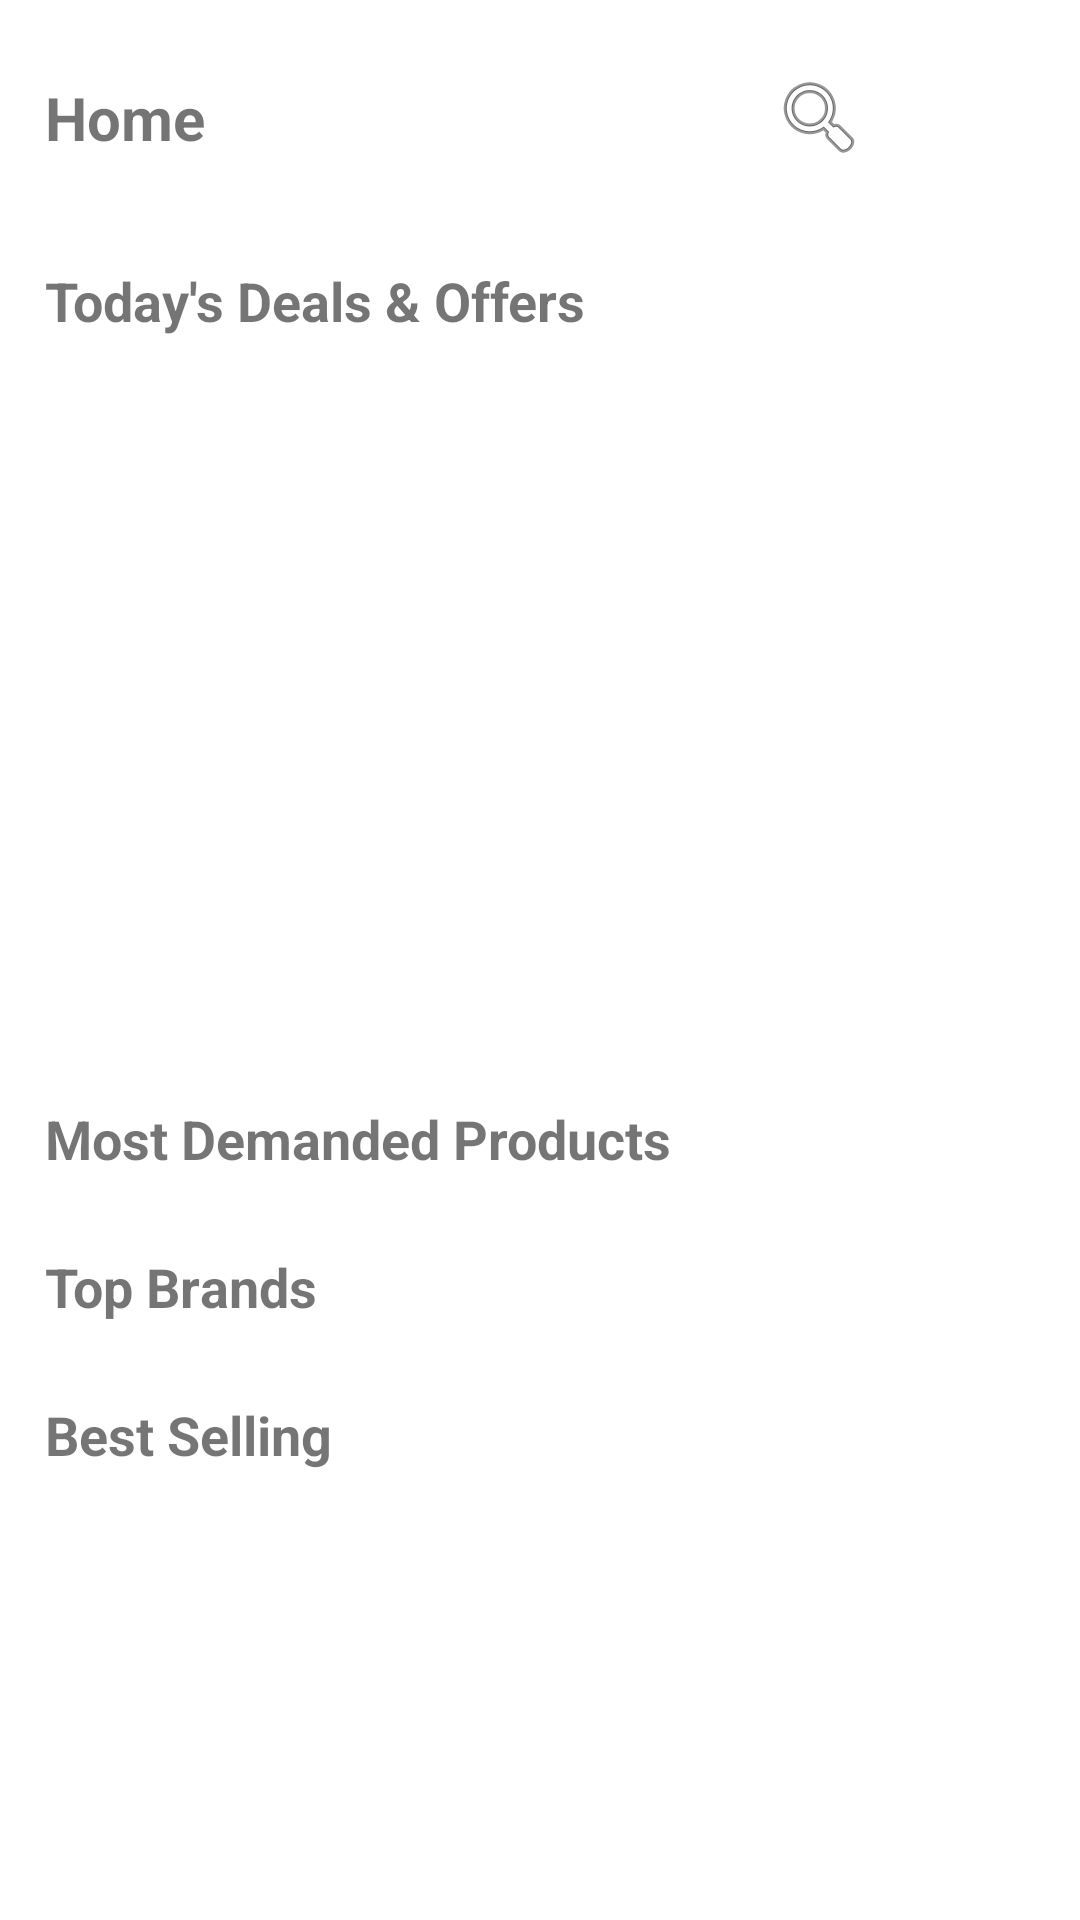

Icons on this 1080w x 1920h Android screen, each with its box as box=[x1, y1, x2, y2]:
Search: box=[783, 82, 855, 153]
